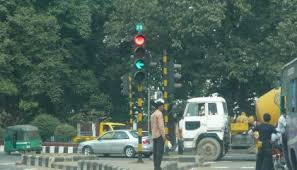signal: (132, 22, 146, 83)
